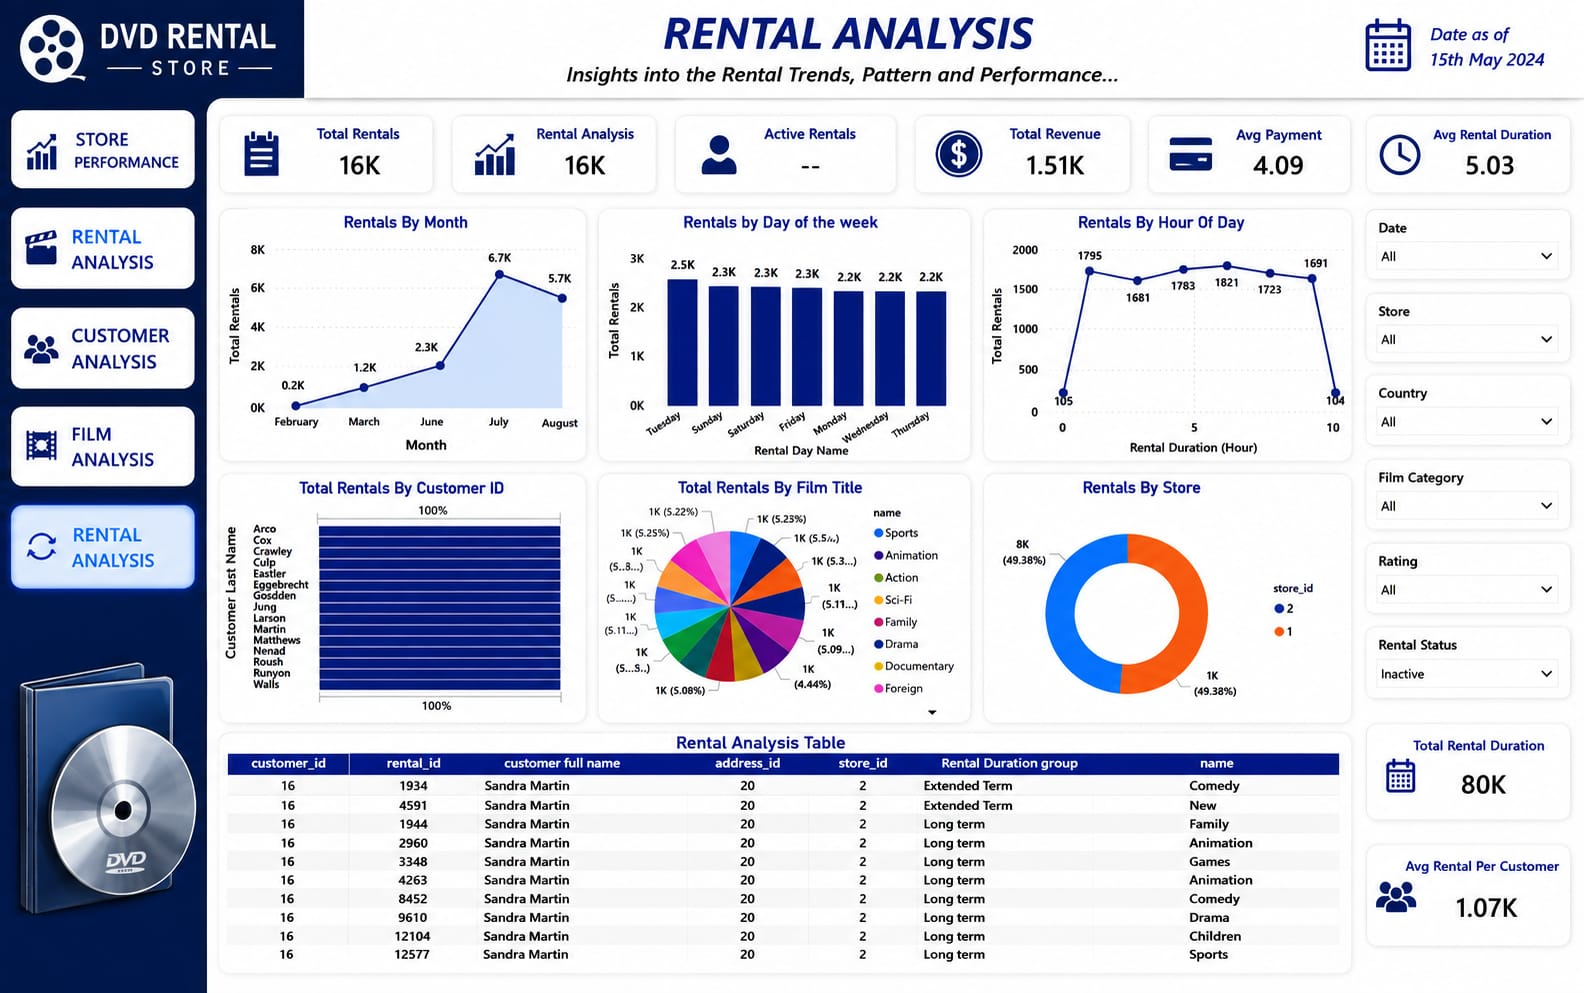

The dashboard page shown, as its layout file describes it:
{"tool":"powerbi","page":{"name":"Page 2","canvas":[1800,1200],"ordinal":1},"visuals":[{"type":"textbox","box":[0,0,1800,100],"z":0},{"type":"slicer","fields":{"Values":["public rental.last_update"]},"box":[1519.5,248,270,102.9],"z":0,"group":"g1"},{"type":"actionButton","box":[0,258.7,240,136.8],"z":0,"group":"g2"},{"type":"cardVisual","title":"Total Rentals","fields":{"Data":["public rental.total rentals"]},"box":[247.5,122.5,245,110],"z":1000},{"type":"slicer","fields":{"Values":["public customer.store_id"]},"box":[1519.5,350.9,270,102.9],"z":1000,"group":"g1"},{"type":"actionButton","box":[0,395.4,240,136.8],"z":1000,"group":"g2"},{"type":"actionButton","title":"STORE PERFORMANCE","box":[0,122.5,240,136.8],"z":2000,"group":"g2"},{"type":"cardVisual","title":"RENTAL ANALYSIS","fields":{"Data":["public rental.Returned Rentals"]},"box":[507.5,122.5,240,110],"z":2000},{"type":"slicer","fields":{"Values":["public country.country"]},"box":[1520,454.4,270,102.9],"z":2000,"group":"g1"},{"type":"cardVisual","title":"ACTIVE RENTALS","fields":{"Data":["public rental.Active Rentals"]},"box":[755,122.5,240,110],"z":3000},{"type":"actionButton","box":[0,541.5,240,136.8],"z":3000,"group":"g2"},{"type":"slicer","fields":{"Values":["public film.special_features"]},"box":[1519.5,556.7,270,102.9],"z":3000,"group":"g1"},{"type":"cardVisual","title":"TOTAL REVENUE","fields":{"Data":["public payment.total revenue"]},"box":[1015,122.5,240,110],"z":4000},{"type":"slicer","fields":{"Values":["public film.rating"]},"box":[1519.5,659.6,270,102.9],"z":4000,"group":"g1"},{"type":"actionButton","box":[0,690.7,240,136.8],"z":4000,"group":"g2"},{"type":"cardVisual","title":"AVG PAYMENT","fields":{"Data":["public payment.Average payment"]},"box":[1277.5,122.5,240,110],"z":5000},{"type":"slicer","fields":{"Values":["public customer.customer status"]},"box":[1518,763.1,270,102.9],"z":5000,"group":"g1"},{"type":"cardVisual","title":"AVG RENTAL DURATION","fields":{"Data":["public rental.Average rental duration"]},"box":[1540,122.5,240,110],"z":6000},{"type":"lineChart","title":"Rentals By Month","fields":{"Y":["public rental.total rentals"],"Category":["public rental.rental_date.Variation.Date Hierarchy.Month"]},"box":[247.5,257.5,380,300],"z":7000},{"type":"clusteredColumnChart","title":"Rentals by Day of the week ","fields":{"Y":["public rental.total rentals"],"Category":["public rental.Rental Day Name"]},"box":[660,258.3,400,300],"z":8000},{"type":"lineChart","title":"Rentals By Hour Of Day","fields":{"Y":["public rental.total rentals"],"Category":["public rental.rental duration"]},"box":[1090,258.3,400,300],"z":9000},{"type":"pieChart","title":"Total Rentals By Film Title","fields":{"Y":["public rental.total rentals"],"Category":["public category.name"]},"box":[660,575,400,300],"z":10000},{"type":"donutChart","title":"Rentals By Store","fields":{"Y":["public rental.total rentals"],"Category":["public inventory.store_id"]},"box":[1072.5,575,432.5,300],"z":11000},{"type":"group","id":"g1","title":"Group 1","box":[1518,248,272,618],"z":12000},{"type":"group","id":"g2","title":"Group 2","box":[0,122.5,240,705],"z":13000},{"type":"image","box":[1442.5,0,150,100],"z":14000},{"type":"image","box":[0,0,315,100],"z":15000},{"type":"image","box":[0,827.5,240,372.5],"z":16000},{"type":"funnel","title":"Total Rentals By Customer ID","fields":{"Y":["public rental.total rentals"],"Category":["public customer.last_name"]},"box":[247.5,575,380,300],"z":17000},{"type":"tableEx","title":"Rental Analysis Table","fields":{"Values":["public customer.customer_id","public rental.rental_id","public customer.customer full name","public customer.address_id","public customer.store_id","public rental.Rebtal Duration group","public category.name"]},"box":[247.5,900,1257.5,300],"z":18000},{"type":"cardVisual","title":"Total Rental Duration","fields":{"Data":["Sum(public rental.rental duration)"]},"box":[1535,900,240,120],"z":19000},{"type":"cardVisual","title":"Avg Rental Per Customer","fields":{"Data":["public rental.Average Rental Per Customer"]},"box":[1535,1050,240,120],"z":20000}]}

Visuals, with their boxes on the page's 1800x1200 design canvas (x1, y1, x2, y2). These are canvas units, not pixel positions in the 1584x993 screenshot, which may show the page scaled, cropped or inside an application window:
textbox: [left=0, top=0, right=1800, bottom=100]
slicer - public rental.last_update: [left=1520, top=248, right=1790, bottom=351]
actionButton: [left=0, top=259, right=240, bottom=396]
"Total Rentals" cardVisual: [left=248, top=122, right=492, bottom=232]
slicer - public customer.store_id: [left=1520, top=351, right=1790, bottom=454]
actionButton: [left=0, top=395, right=240, bottom=532]
"STORE PERFORMANCE" actionButton: [left=0, top=122, right=240, bottom=259]
"RENTAL ANALYSIS" cardVisual: [left=508, top=122, right=748, bottom=232]
slicer - public country.country: [left=1520, top=454, right=1790, bottom=557]
"ACTIVE RENTALS" cardVisual: [left=755, top=122, right=995, bottom=232]
actionButton: [left=0, top=542, right=240, bottom=678]
slicer - public film.special_features: [left=1520, top=557, right=1790, bottom=660]
"TOTAL REVENUE" cardVisual: [left=1015, top=122, right=1255, bottom=232]
slicer - public film.rating: [left=1520, top=660, right=1790, bottom=762]
actionButton: [left=0, top=691, right=240, bottom=828]
"AVG PAYMENT" cardVisual: [left=1278, top=122, right=1518, bottom=232]
slicer - public customer.customer status: [left=1518, top=763, right=1788, bottom=866]
"AVG RENTAL DURATION" cardVisual: [left=1540, top=122, right=1780, bottom=232]
"Rentals By Month" lineChart: [left=248, top=258, right=628, bottom=558]
"Rentals by Day of the week " clusteredColumnChart: [left=660, top=258, right=1060, bottom=558]
"Rentals By Hour Of Day" lineChart: [left=1090, top=258, right=1490, bottom=558]
"Total Rentals By Film Title" pieChart: [left=660, top=575, right=1060, bottom=875]
"Rentals By Store" donutChart: [left=1072, top=575, right=1505, bottom=875]
"Group 1" group: [left=1518, top=248, right=1790, bottom=866]
"Group 2" group: [left=0, top=122, right=240, bottom=828]
image: [left=1442, top=0, right=1592, bottom=100]
image: [left=0, top=0, right=315, bottom=100]
image: [left=0, top=828, right=240, bottom=1200]
"Total Rentals By Customer ID" funnel: [left=248, top=575, right=628, bottom=875]
"Rental Analysis Table" tableEx: [left=248, top=900, right=1505, bottom=1200]
"Total Rental Duration" cardVisual: [left=1535, top=900, right=1775, bottom=1020]
"Avg Rental Per Customer" cardVisual: [left=1535, top=1050, right=1775, bottom=1170]
